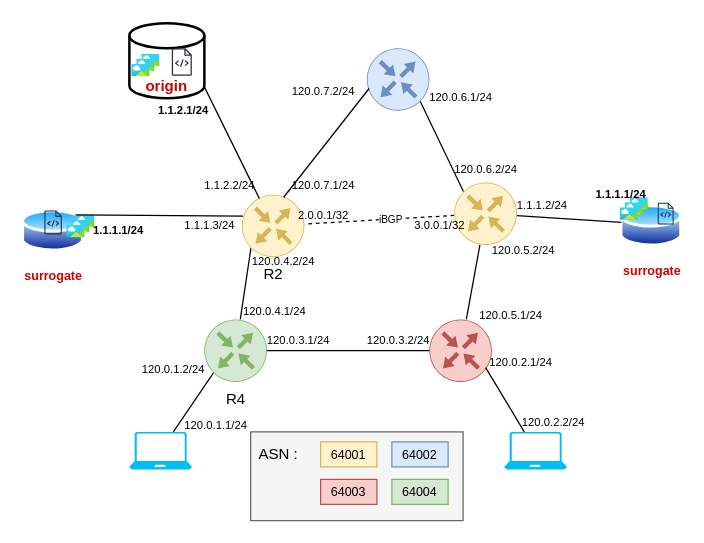
Image size: 704x543. Some labels were removed from this diagram. Each missing label, with the centre of its shape:
"R1" belongs at pixel 397 79.
"R3" belongs at pixel 485 213.
"R5" belongs at pixel 460 350.
